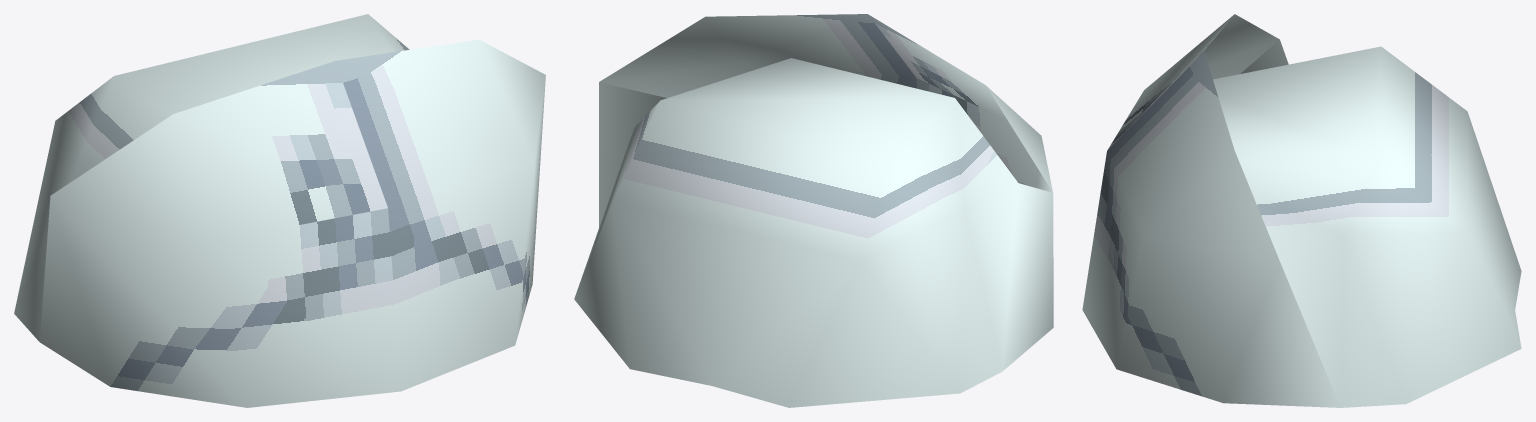
3 views of the same model, side by side, from view 1: azimuth 30°, elevation 25°; view 2: azimuth 150°, elevation 25°; view 3: azimuth 270°, elevation 25° (orthographic). The views are drawn at different scales.
Parts seen in each view (by area): view 1: 2864head004_c; view 2: 2864head004_c; view 3: 2864head004_c.
Part boxes in pixels (x1=…): 2864head004_c: x1=14, y1=14, x2=545, y2=407; 2864head004_c: x1=574, y1=14, x2=1053, y2=407; 2864head004_c: x1=1082, y1=14, x2=1521, y2=407.
Bounding box in the file's own units: 0.719 × 0.3909 × 0.6016.
Materials: 1 (1 with a texture image).
